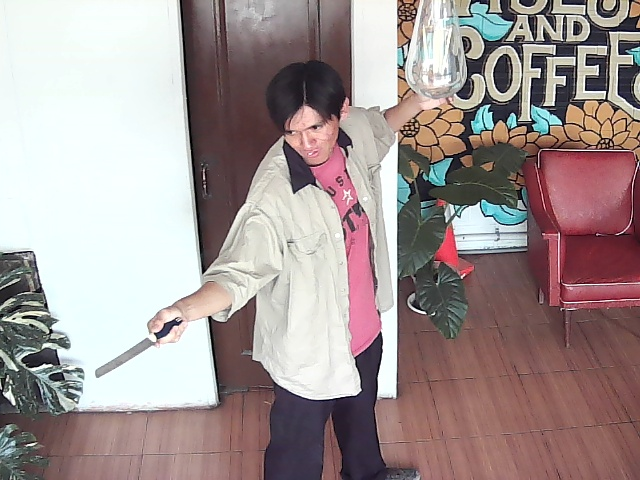cuchillo: (85, 306, 191, 384)
